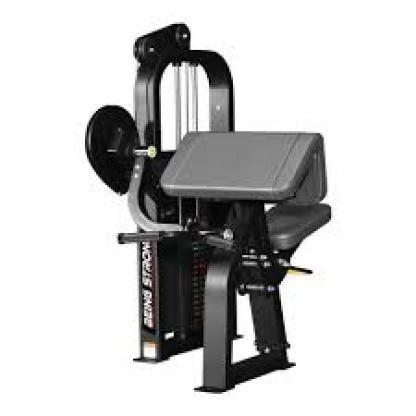arm curl machine: (86, 21, 333, 393)
